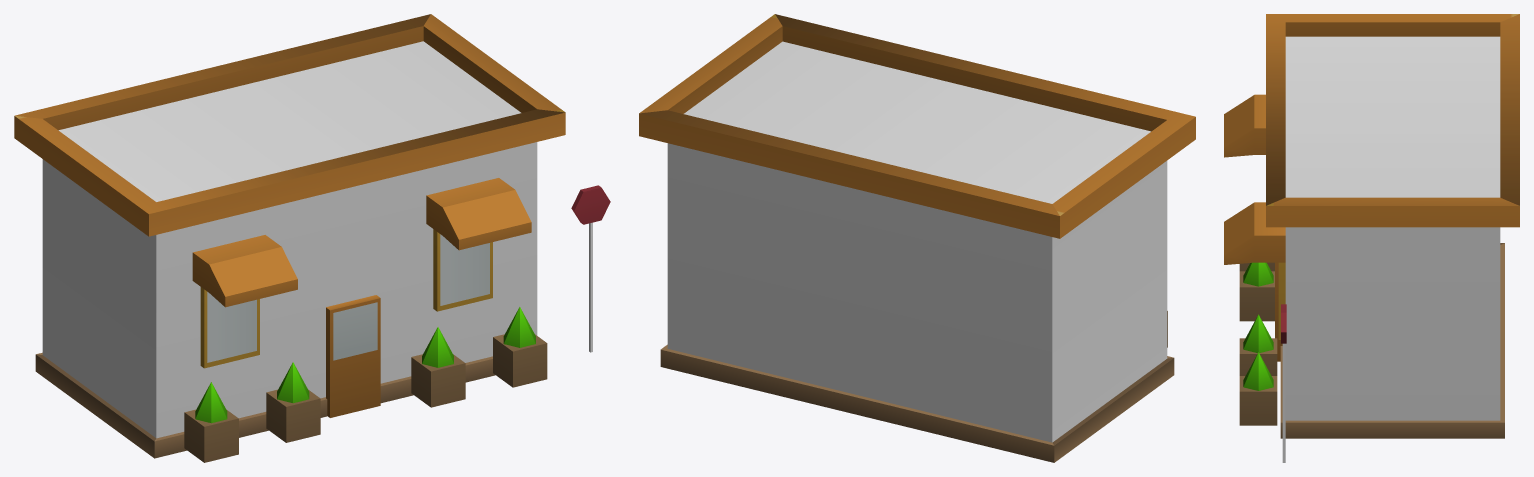
Rendered from Negozietto.fbx.
3 renders of one model, left to right at view 1: azimuth 30°, elevation 25°; view 2: azimuth 150°, elevation 25°; view 3: azimuth 270°, elevation 25°, orthographic. The views are drawn at different scales.
Parts seen in each view (by area): view 1: pCylinder2; view 2: pCylinder2; view 3: pCylinder2.
Part boxes in pixels (box(x1,y1,x2,y2)): pCylinder2: box(14, 14, 610, 462); pCylinder2: box(639, 14, 1195, 462); pCylinder2: box(1224, 14, 1519, 462).
Size of the model in its own units: 10.44 by 5.41 by 6.03.
